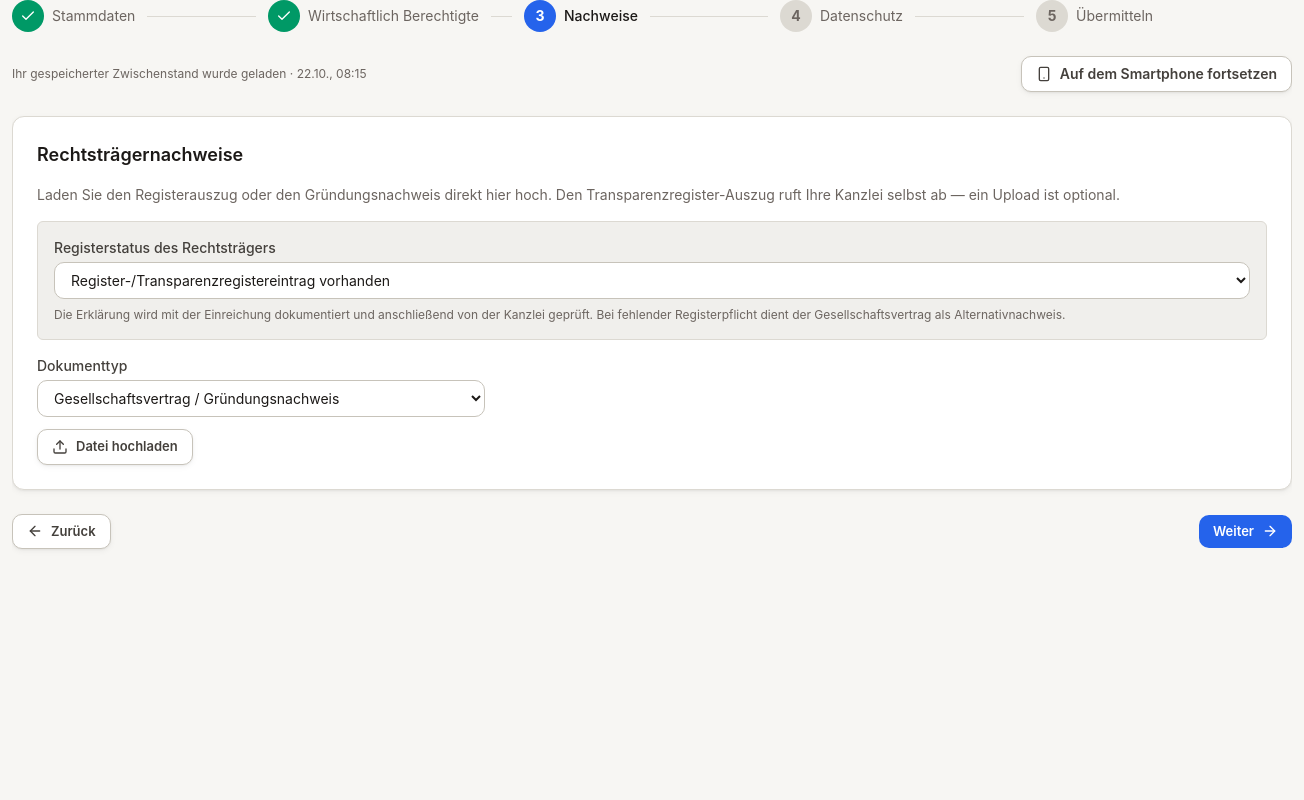
Test: GwG-Onboarding – Zwischenstand wiederherstellen › setzt auf einem anderen Gerät beim gespeicherten Schritt mit allen Angaben fort
The image size is (1304, 800).
Expected: the heading "Rechtsträgernachweise" is shown, [37,144,243,165]
Expected: the message shows "Ihr gespeicherter Zwischenstand wurde geladen", [12,66,286,81]
Zurück zu Personen und Stammdaten: der gespeicherte Stand, nicht der Kanzlei-Stand.
Click the button "Zurück" at (61, 531), box [12,514,110,549]
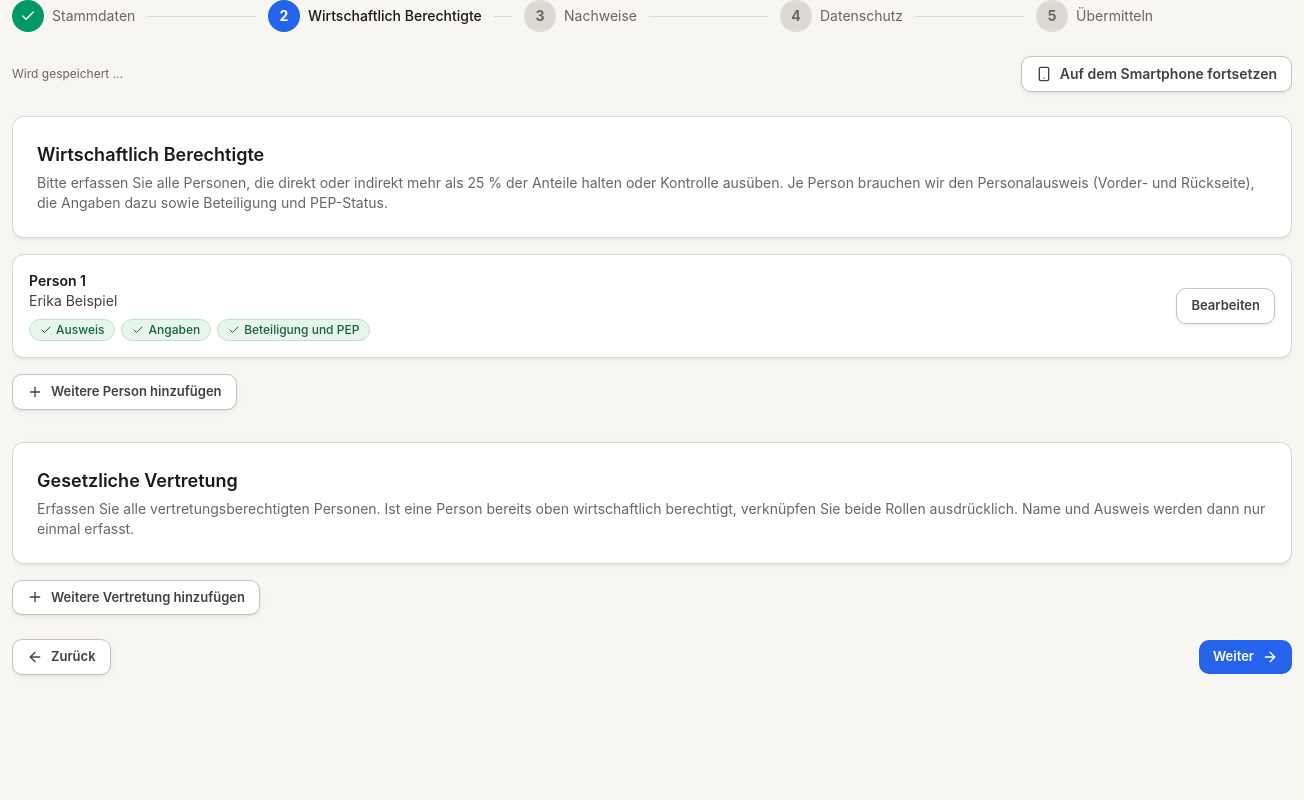
Result: the text "Erika Beispiel" is shown at [29,292,117,309]
Click the button "Zurück" at (61, 657), box [12,639,110,674]
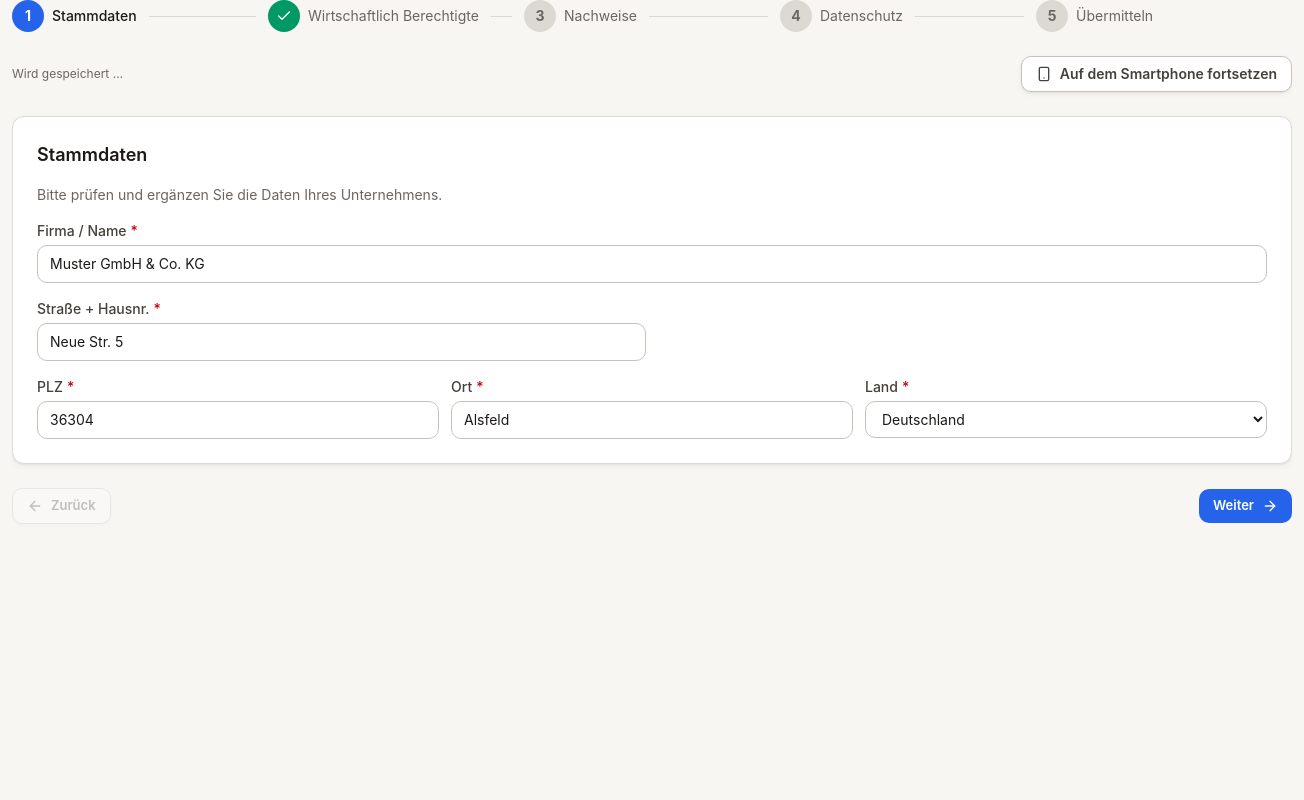
Result: the field labelled "Firma / Name*" holds "Muster GmbH & Co. KG" at [37,245,1267,283]
Result: the field labelled "Straße + Hausnr.*" holds "Neue Str. 5" at [37,323,646,361]
